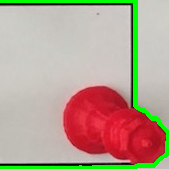Red Queen: (60, 82, 166, 164)
